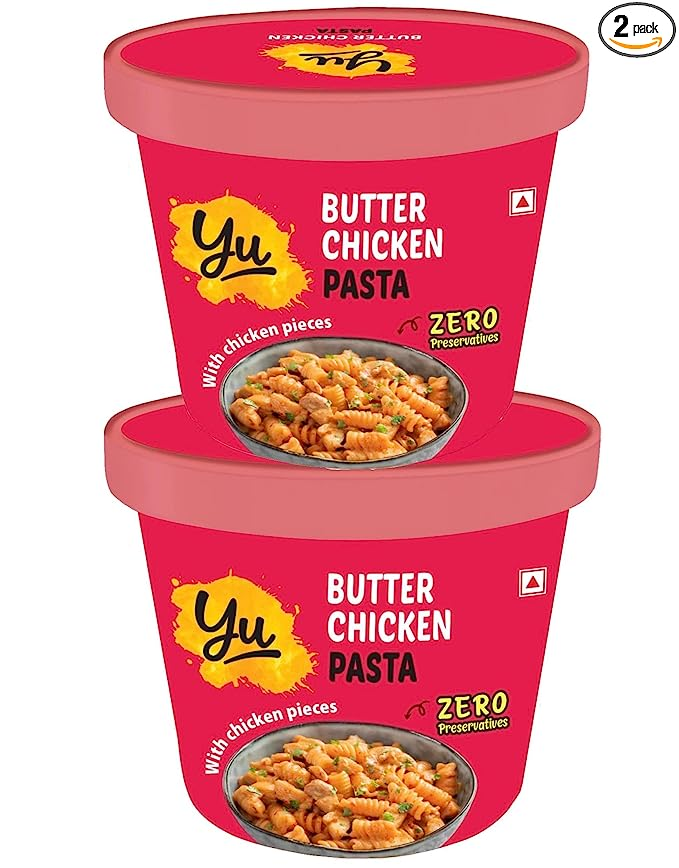non_veg: (514, 562, 553, 627), (506, 190, 550, 235)
